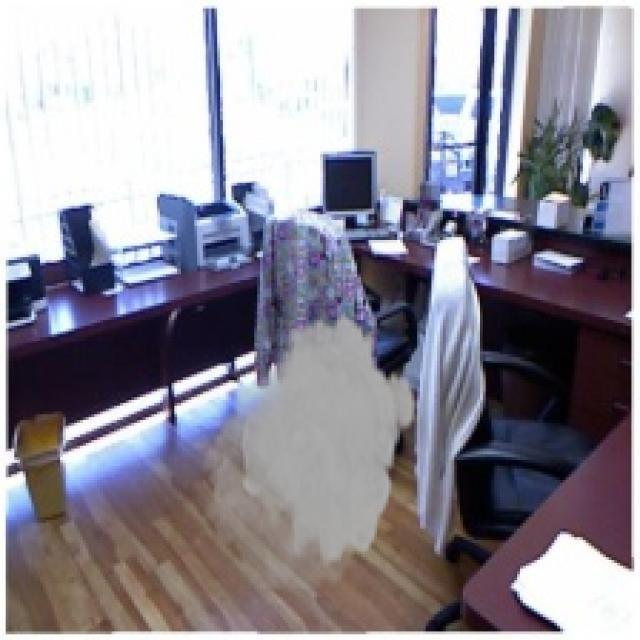Smoke: (194, 308, 417, 588)
